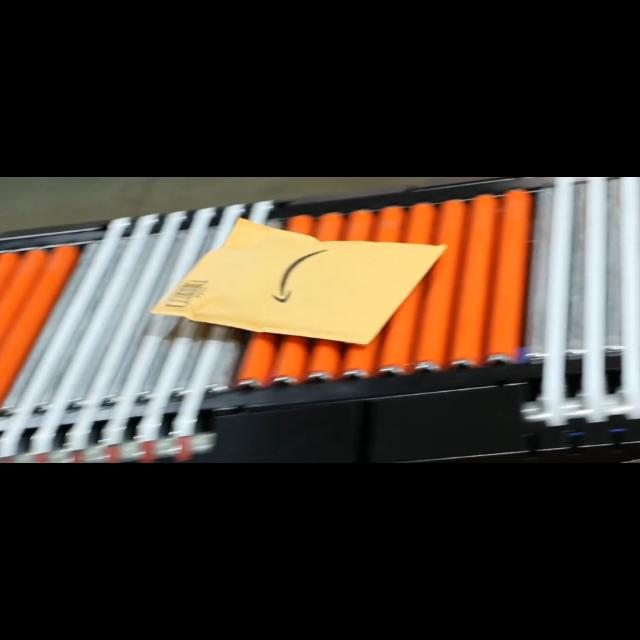mailer: (152, 217, 444, 346)
